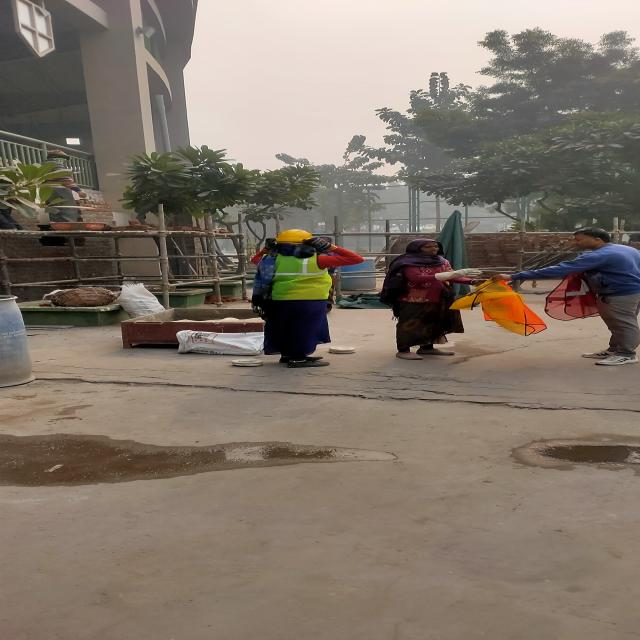safe: (249, 230, 352, 368)
unsafe: (550, 228, 638, 362), (391, 238, 462, 364)
